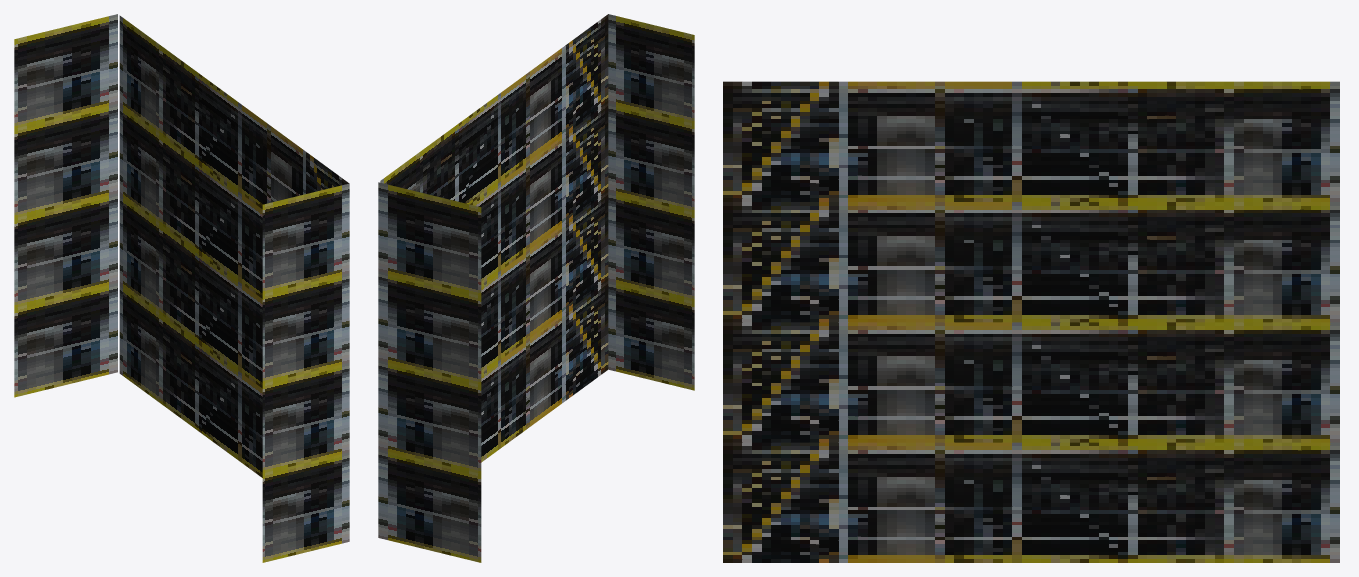
The model's file is env_scaffolding_large.glb.
3 renders of one model, left to right at view 1: azimuth 30°, elevation 25°; view 2: azimuth 150°, elevation 25°; view 3: azimuth 270°, elevation 25°, orthographic. The views are drawn at different scales.
Parts seen in each view (by area): view 1: env_scaffolding_large; view 2: env_scaffolding_large; view 3: env_scaffolding_large.
Boxes of the visible parts, left/top/right/bottom form: env_scaffolding_large: left=14, top=14, right=349, bottom=562; env_scaffolding_large: left=378, top=14, right=694, bottom=562; env_scaffolding_large: left=723, top=81, right=1339, bottom=562.
Size of the model in its own units: 0.00142 by 0.00468 by 0.00549.
Materials: 1 (1 with a texture image).
